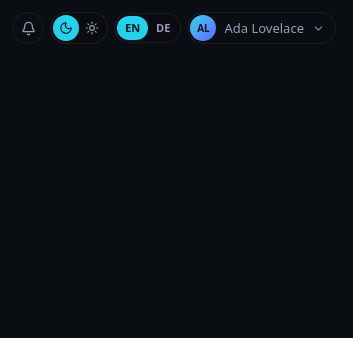
Test: HeaderTools › opens the account menu with both areas and the way out
The width and height of the screenshot is (353, 338).
Click the button "AL Ada Lovelace" at (262, 28), box [187,12,336,44]
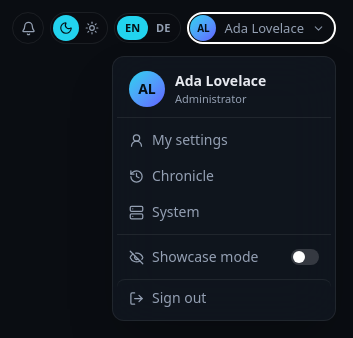
Expected: the menu shows "Administrator", [175,91,246,106]
Expected: the menu item "Sign out" is shown, [117,279,331,316]
Press Escape
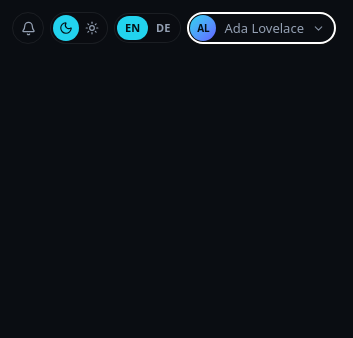
Expected: the menu is gone
